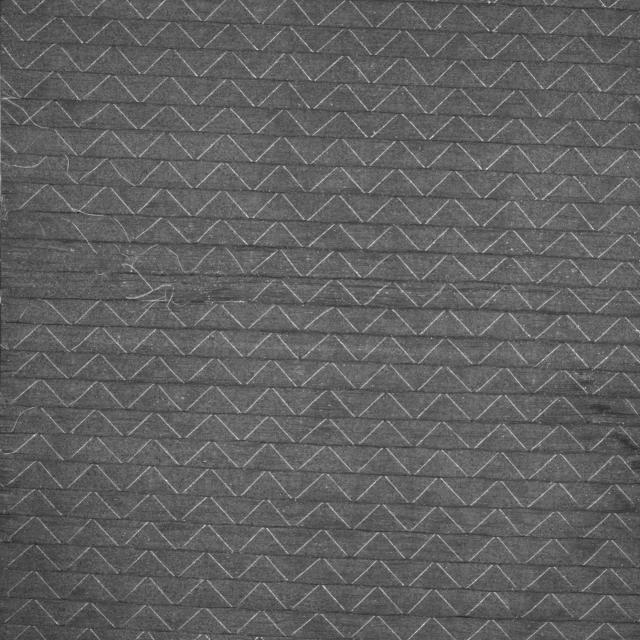carbon-fibre-defect: (7, 215, 145, 301), (5, 75, 90, 214), (146, 269, 265, 308), (578, 387, 638, 432)
